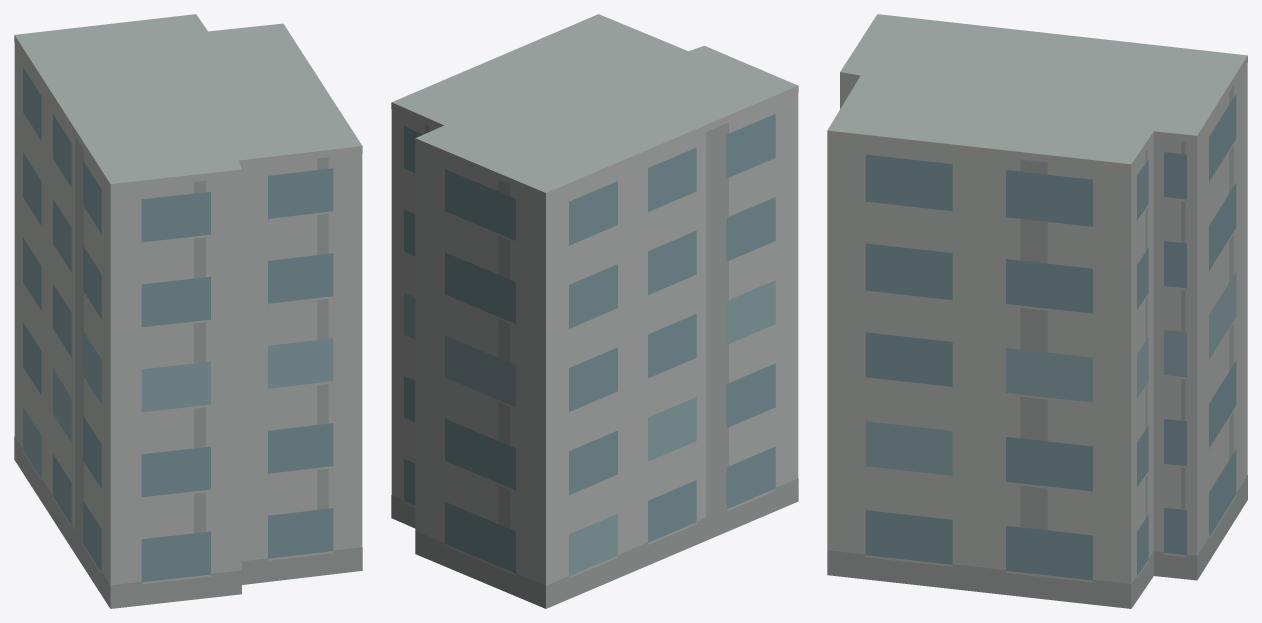
The model's file is survey-upis-32806371.glb.
3 renders of one model, left to right at view 1: azimuth 30°, elevation 25°; view 2: azimuth 150°, elevation 25°; view 3: azimuth 270°, elevation 25°, orthographic. The views are drawn at different scales.
Parts seen in each view (by area): view 1: survey-upis-32806371.tmp; view 2: survey-upis-32806371.tmp; view 3: survey-upis-32806371.tmp.
Part boxes in pixels (x1=…): survey-upis-32806371.tmp: x1=14, y1=14, x2=362, y2=608; survey-upis-32806371.tmp: x1=391, y1=14, x2=798, y2=608; survey-upis-32806371.tmp: x1=827, y1=14, x2=1247, y2=608.
Size of the model in its own units: 10.38 by 14.3 by 12.27.
